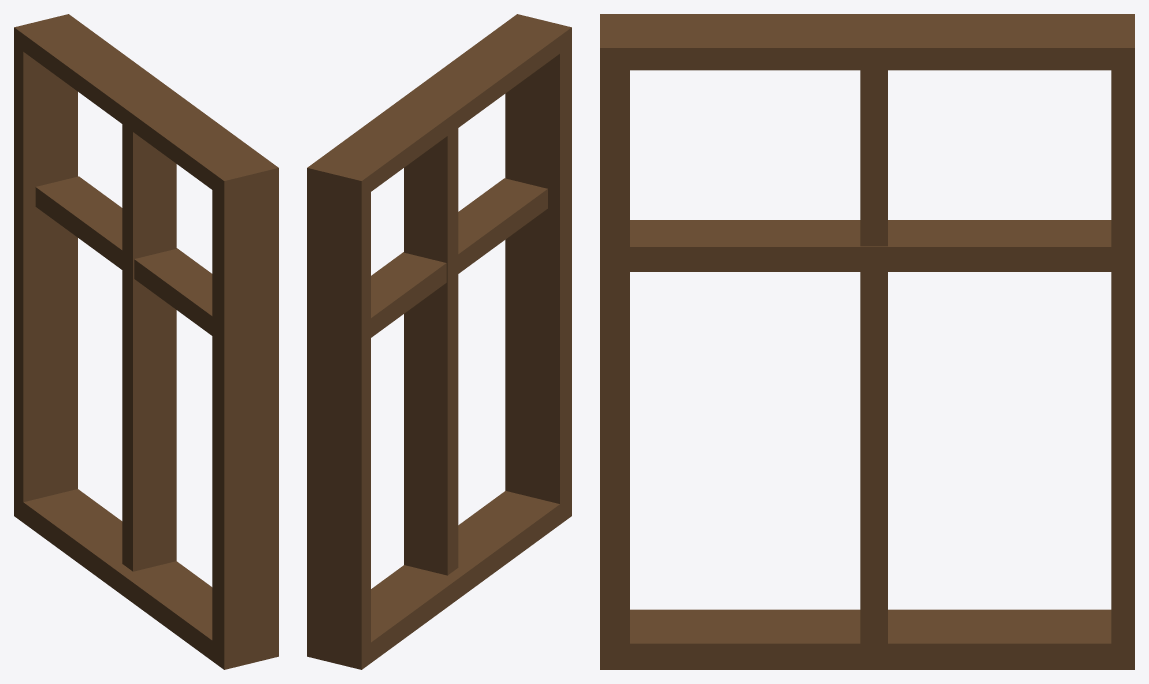
Rendered from Frame.fbx.
The picture shows the model from 3 angles, left to right: view 1: azimuth 30°, elevation 25°; view 2: azimuth 150°, elevation 25°; view 3: azimuth 270°, elevation 25°; orthographic projection. The views are drawn at different scales.
Visible parts, largest first — view 1: FrameWindow; view 2: FrameWindow; view 3: FrameWindow.
Boxes of the visible parts, bbox=[...] form: FrameWindow: bbox=[14, 14, 278, 669]; FrameWindow: bbox=[307, 14, 571, 669]; FrameWindow: bbox=[600, 14, 1134, 669].
Bounding box in the file's own units: 40.76 × 342 × 267.
